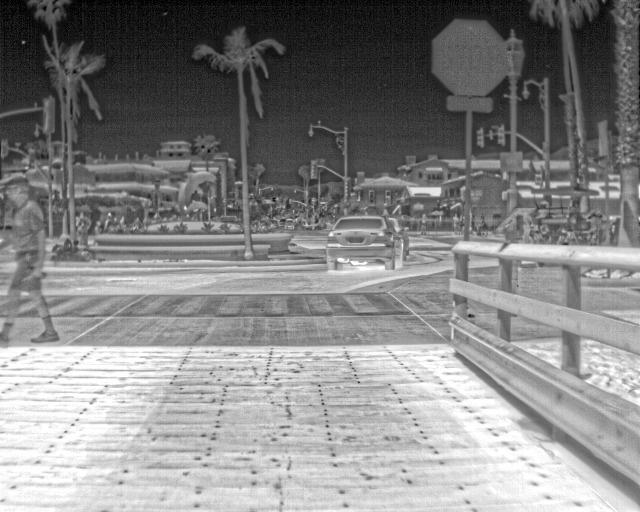bicycle: (324, 217, 402, 276), (385, 214, 413, 258)
empty: (0, 177, 63, 342), (475, 211, 489, 235), (417, 212, 430, 235), (102, 211, 115, 232), (449, 211, 461, 233), (92, 220, 104, 237)
